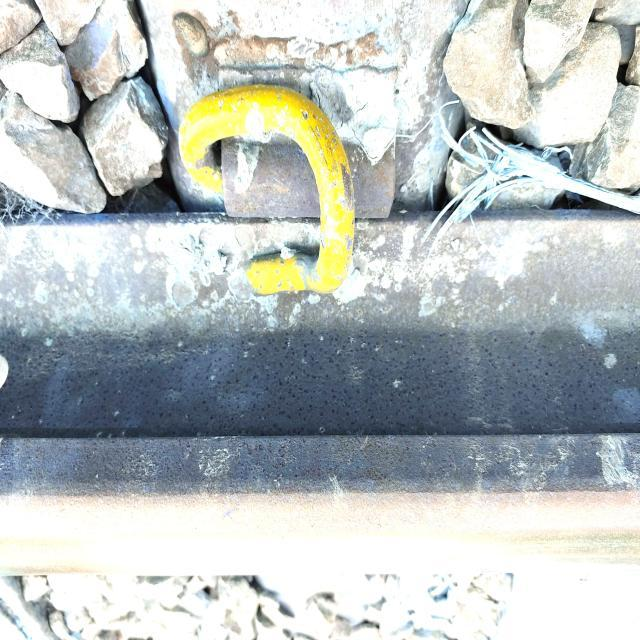Good Fasteners: (160, 40, 417, 319)
